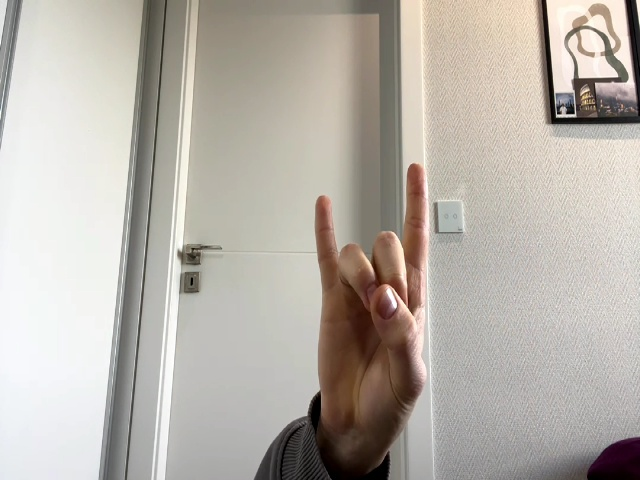Y: (315, 163, 428, 426)
